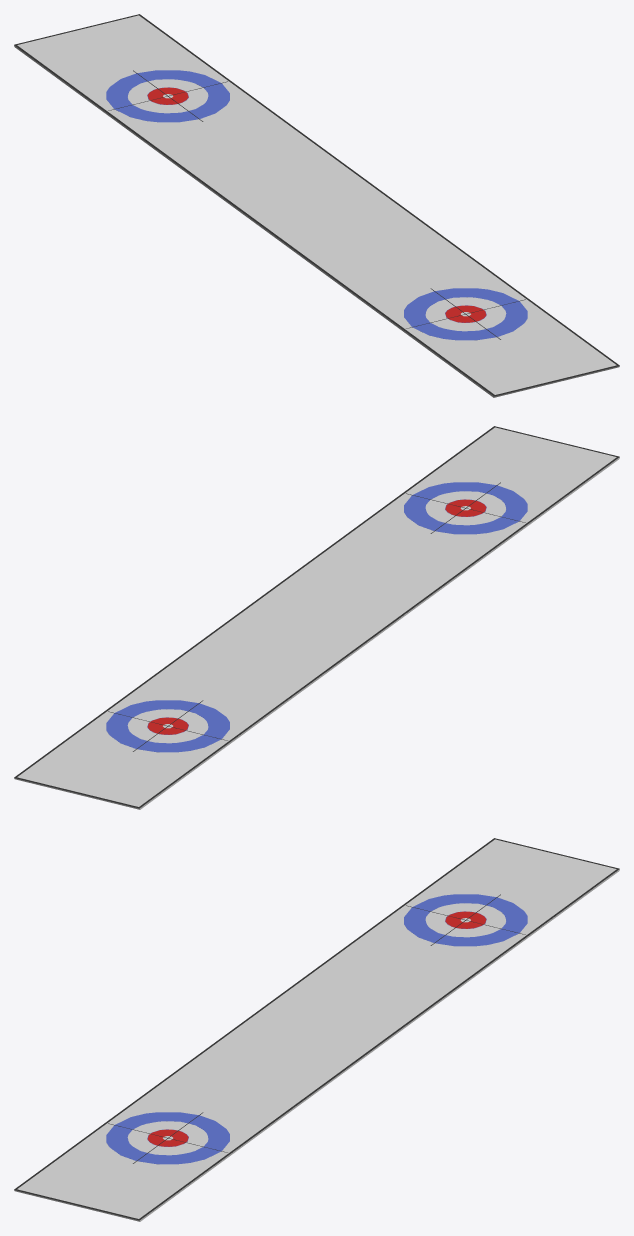
File: Curling Rink.fbx
3 renders of one model, top to bottom at view 1: azimuth 30°, elevation 25°; view 2: azimuth 150°, elevation 25°; view 3: azimuth 330°, elevation 25°, orthographic.
Visible parts, largest first — view 1: Curling Rink; view 2: Curling Rink; view 3: Curling Rink.
Boxes of the visible parts, x1,y1,x2,y2 form: Curling Rink: [14, 14, 619, 397]; Curling Rink: [14, 426, 619, 809]; Curling Rink: [14, 838, 619, 1221].
Bounding box in the file's own units: 2720 × 41.71 × 18000.
